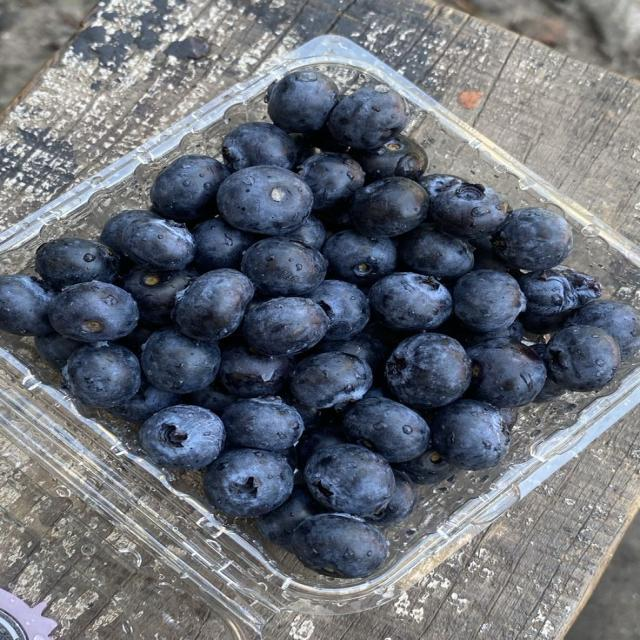blueberry: (218, 166, 313, 234), (387, 333, 471, 408), (305, 445, 394, 515), (292, 514, 388, 578), (204, 449, 293, 517), (173, 269, 253, 340), (344, 398, 430, 462), (467, 338, 546, 407), (140, 405, 225, 469), (432, 400, 509, 469), (49, 282, 139, 341), (141, 327, 219, 394), (328, 85, 408, 149), (151, 155, 228, 221), (62, 343, 140, 408), (241, 238, 327, 296), (494, 207, 573, 270), (546, 325, 620, 391), (369, 273, 452, 331), (244, 298, 328, 355), (350, 177, 429, 237), (429, 183, 512, 238), (267, 70, 338, 133), (454, 270, 526, 332), (291, 353, 372, 408), (222, 398, 304, 452), (35, 237, 119, 289), (567, 300, 639, 360), (123, 267, 197, 324), (399, 224, 473, 279), (256, 487, 322, 548), (518, 267, 601, 315), (323, 230, 396, 284), (219, 346, 294, 397), (298, 153, 364, 210), (122, 219, 195, 270), (222, 122, 297, 170), (309, 280, 369, 340), (193, 218, 258, 272), (353, 136, 427, 181), (0, 275, 54, 335), (317, 333, 390, 374), (366, 471, 418, 527), (110, 380, 179, 422), (100, 210, 159, 255), (394, 449, 456, 484), (296, 426, 347, 466), (457, 321, 523, 348), (35, 333, 84, 369), (186, 383, 238, 414), (281, 216, 326, 250), (118, 323, 158, 357), (288, 399, 329, 429), (519, 311, 570, 334), (419, 174, 465, 199), (305, 126, 348, 152), (315, 207, 352, 237), (278, 446, 303, 485), (533, 376, 566, 403), (290, 134, 316, 165), (473, 248, 508, 271), (499, 408, 519, 431), (469, 236, 493, 253), (362, 386, 390, 399)
